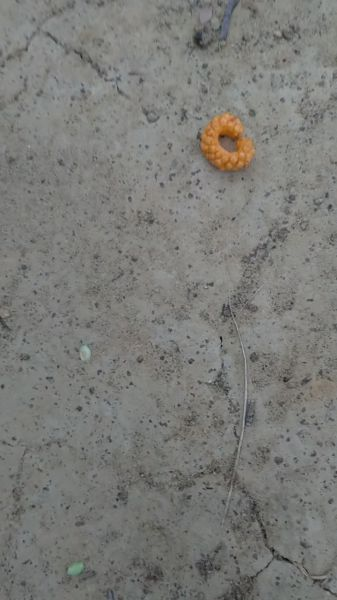eggs: (202, 111, 255, 168)
